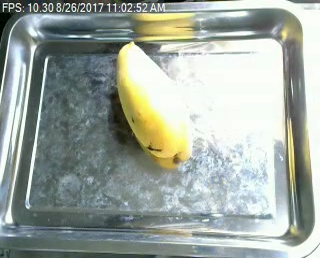Mango: (110, 37, 200, 166)
